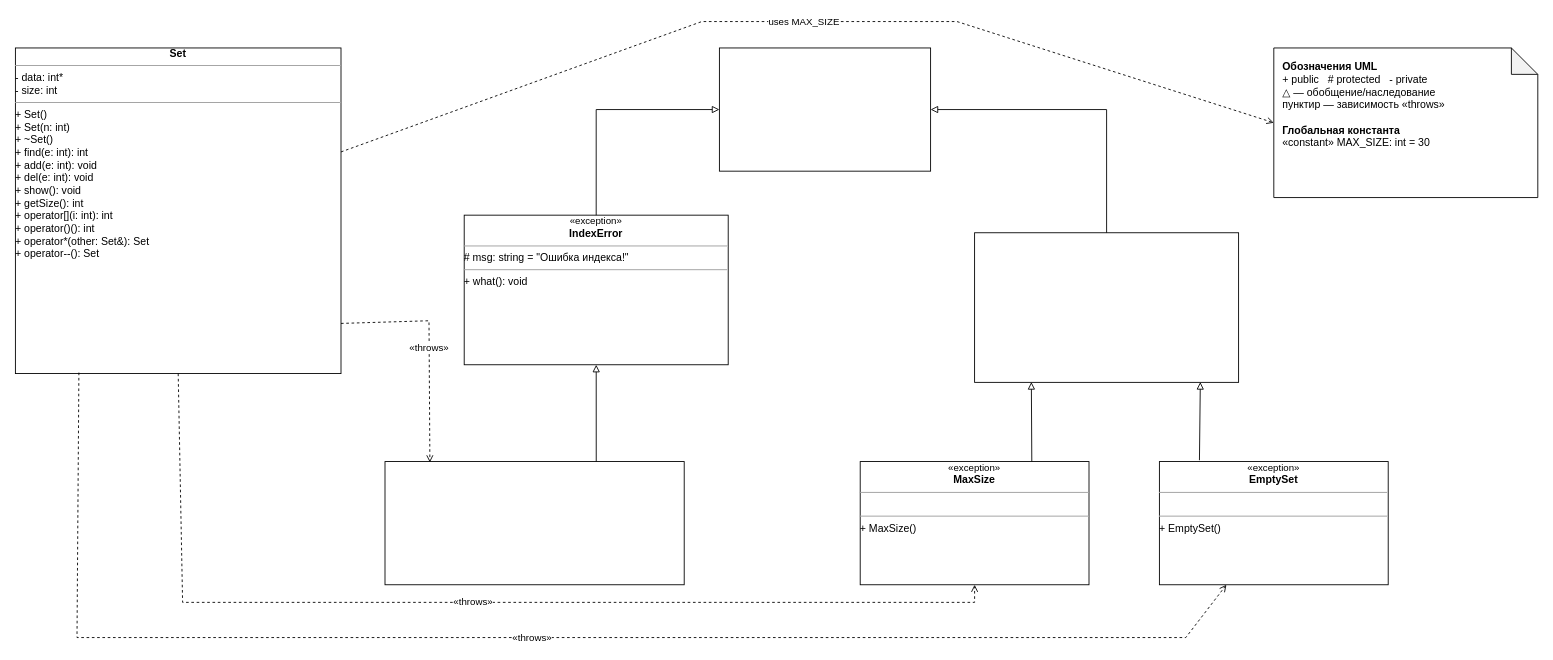
Some shapes in this 1553 by 660 pixel diagram are drawn without their labels. The shapes that lost their labels are listed below. From the top down, each one's centre as x and y in pixels, then its label:
(x=825, y=109): «exception» Error + what(): void
(x=1106, y=307): «exception» SizeError # msg: string = "Ошибка размера!" + what(): void
(x=534, y=523): «exception» IndexOutOfBounds + IndexOutOfBounds()
